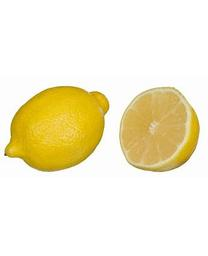lemon: (4, 87, 109, 172), (121, 86, 200, 172)
